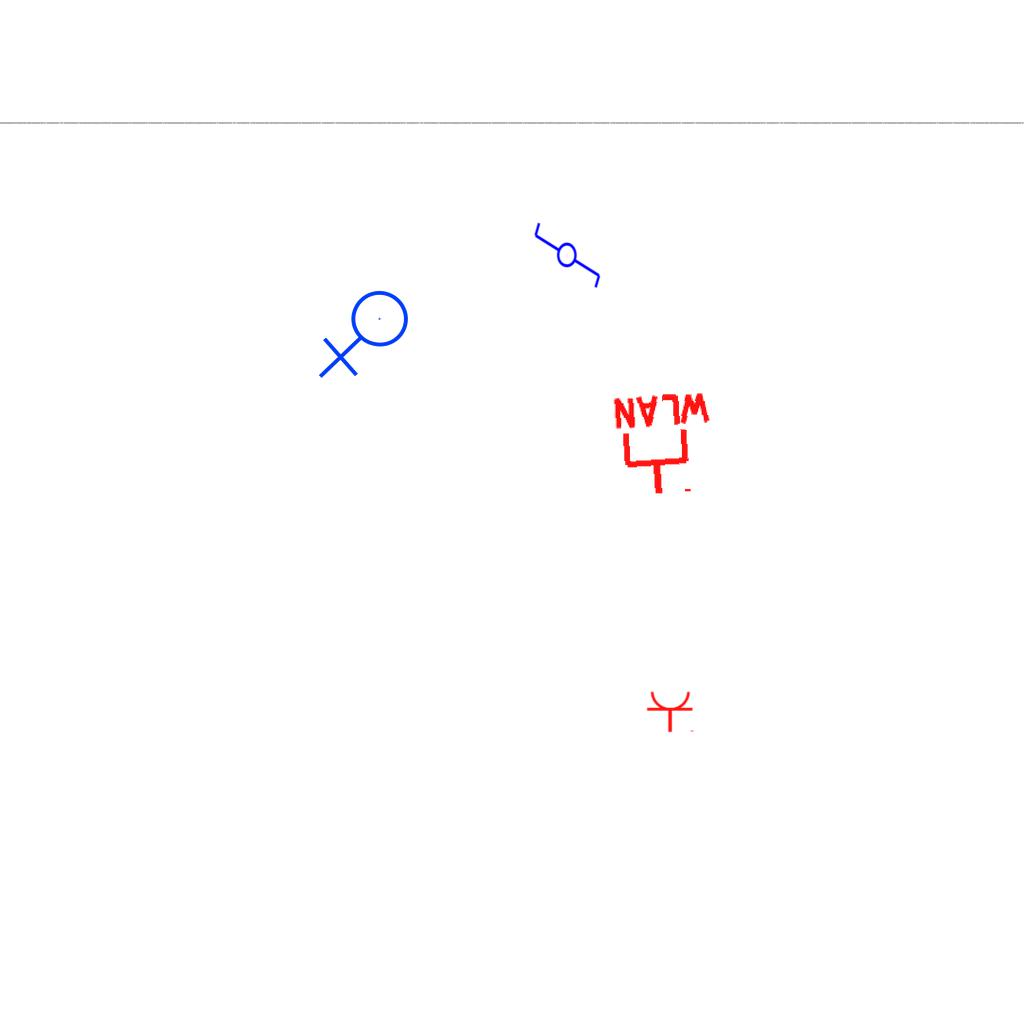Elektroanschluss_allgemein_230V_Geraeteanschlussdose_230V: (318, 289, 417, 383)
Schukosteckdose_einfach: (646, 690, 696, 733)
WLAN: (608, 389, 721, 501)
Wechselschalter: (532, 212, 604, 290)
